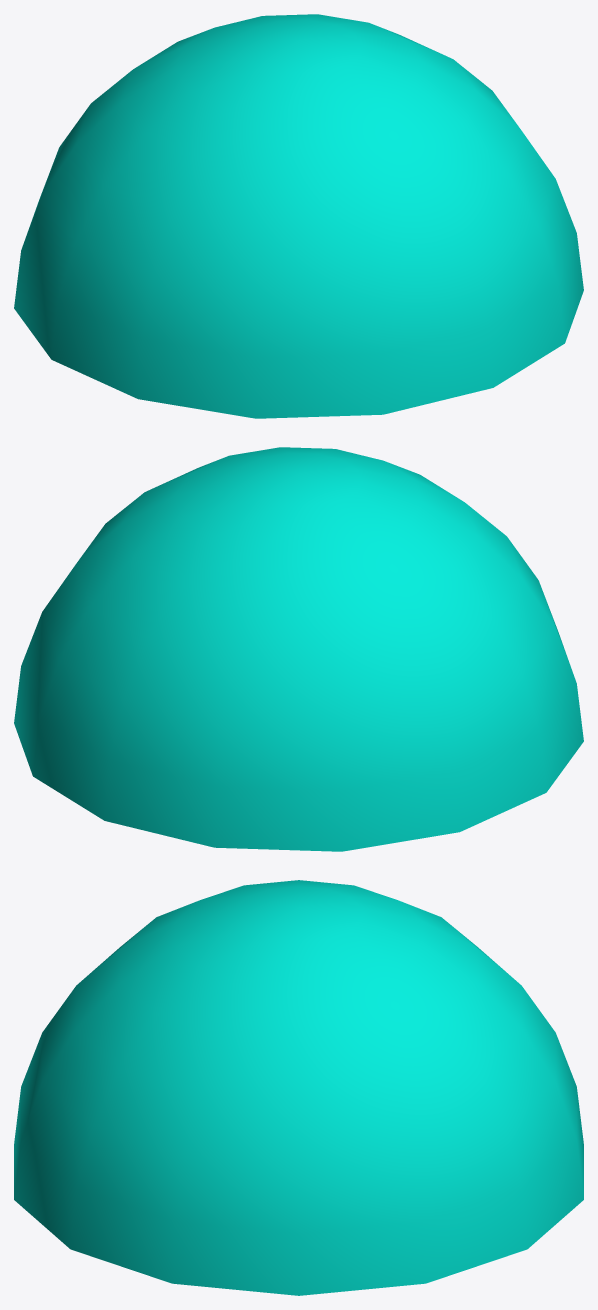
File: Mesh_Shield.fbx
3 views of the same model, one above another, from view 1: azimuth 30°, elevation 25°; view 2: azimuth 150°, elevation 25°; view 3: azimuth 270°, elevation 25° (orthographic). The views are drawn at different scales.
Parts seen in each view (by area): view 1: pSphere1; view 2: pSphere1; view 3: pSphere1.
Part boxes in pixels (box(x1,y1,x2,y2)): pSphere1: box(14, 14, 583, 418); pSphere1: box(14, 447, 583, 851); pSphere1: box(14, 880, 583, 1295).
Bounding box in the file's own units: 2 × 1 × 1.95.
